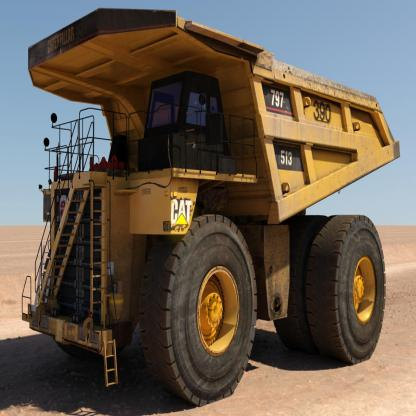dump_truck: (21, 5, 403, 394)
